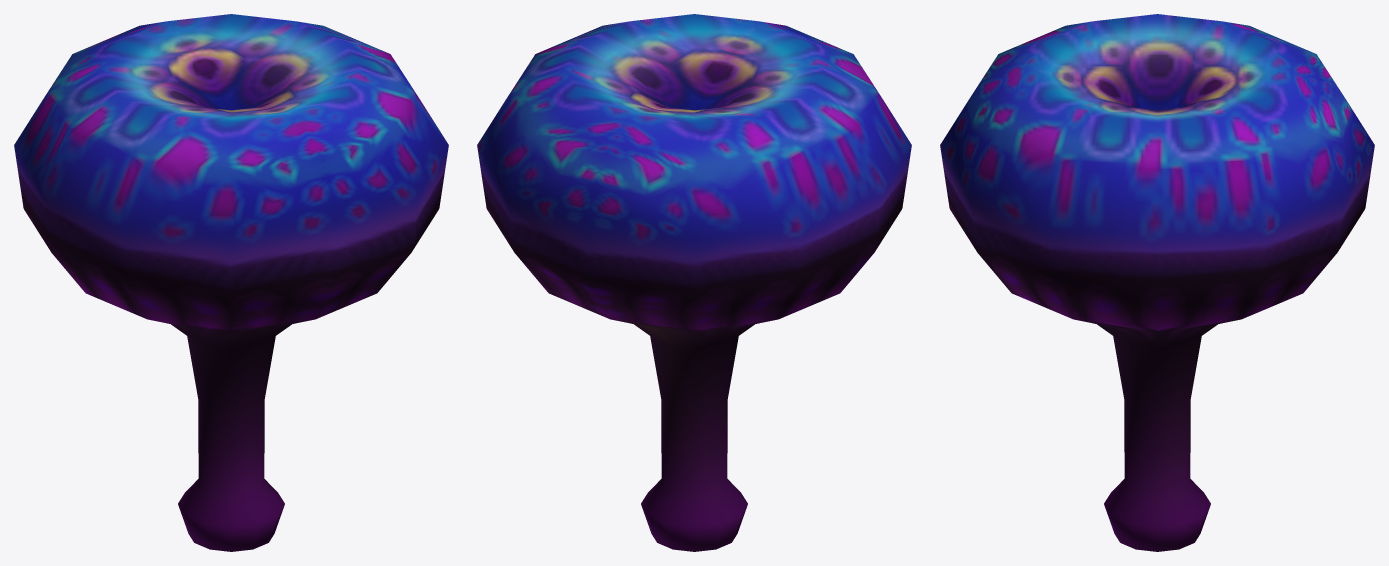
File: Mushroom_05c.FBX
The picture shows the model from 3 angles, left to right: view 1: azimuth 30°, elevation 25°; view 2: azimuth 150°, elevation 25°; view 3: azimuth 270°, elevation 25°; orthographic projection.
Visible parts, largest first — view 1: Mushroom_05c; view 2: Mushroom_05c; view 3: Mushroom_05c.
Boxes of the visible parts, x1,y1,x2,y2 form: Mushroom_05c: (14, 14, 448, 551); Mushroom_05c: (477, 14, 911, 551); Mushroom_05c: (940, 14, 1374, 551).
Size of the model in its own units: 132 by 160 by 132.
